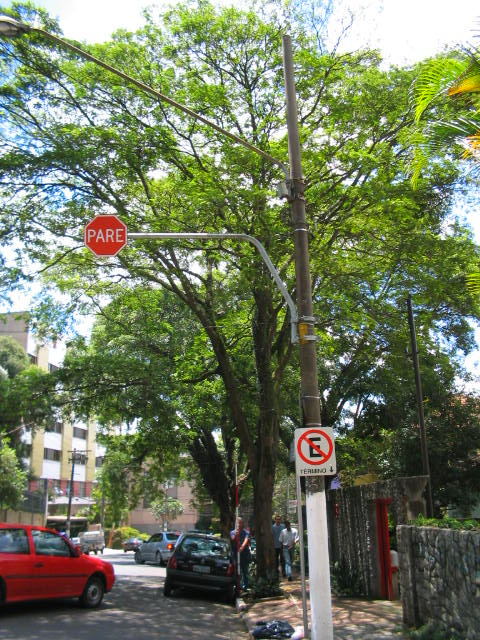crown: (4, 7, 476, 358)
stem: (242, 483, 289, 595)
stick: (229, 465, 245, 595)
tree: (3, 5, 477, 597)
